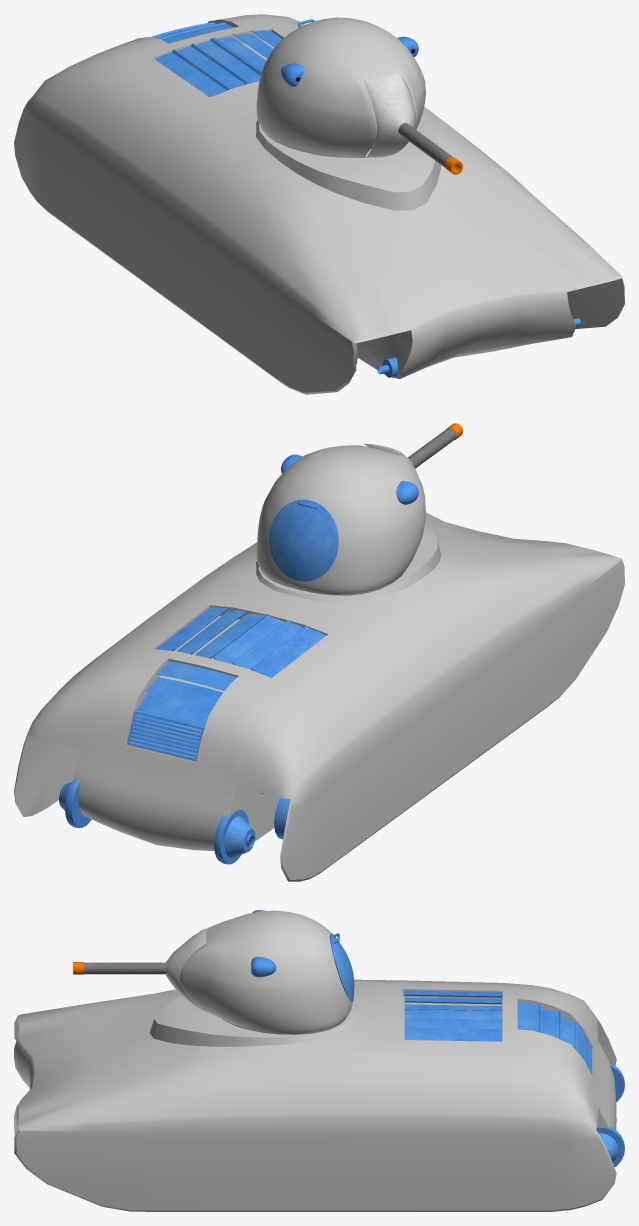
The model's file is AMX-40_Body.fbx.
The picture shows the model from 3 angles, top to bottom: view 1: azimuth 30°, elevation 25°; view 2: azimuth 150°, elevation 25°; view 3: azimuth 270°, elevation 25°; orthographic projection. The views are drawn at different scales.
Visible parts, largest first — view 1: Body, Head, Bidy_Sub, Gun_Shield, Gun; view 2: Body, Head, Bidy_Sub, Gun; view 3: Body, Head, Bidy_Sub, Gun, Gun_Shield.
Part boxes in pixels (left/top/right/bottom): Body: left=14, top=14, right=624, bottom=394; Head: left=256, top=17, right=425, bottom=157; Bidy_Sub: left=151, top=22, right=581, bottom=377; Gun_Shield: left=364, top=71, right=415, bottom=157; Gun: left=398, top=123, right=463, bottom=174; Body: left=14, top=512, right=624, bottom=881; Head: left=256, top=445, right=425, bottom=595; Bidy_Sub: left=59, top=607, right=325, bottom=864; Gun: left=408, top=423, right=463, bottom=468; Body: left=14, top=979, right=616, bottom=1211; Head: left=179, top=910, right=354, bottom=1034; Bidy_Sub: left=404, top=990, right=624, bottom=1167; Gun: left=73, top=962, right=165, bottom=974; Gun_Shield: left=166, top=928, right=206, bottom=1008.
Size of the model in its own units: 251 by 279 by 547.
